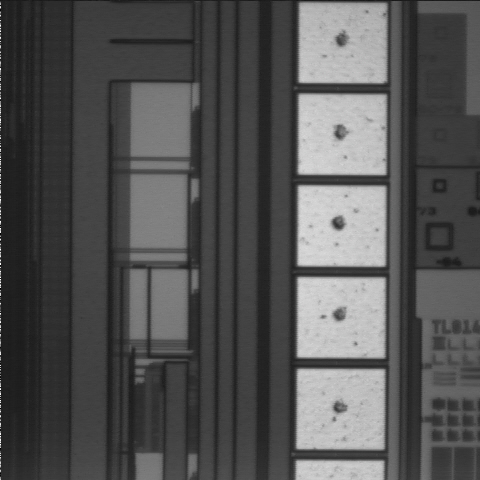pad: (298, 95, 386, 175), (298, 186, 385, 266), (297, 369, 384, 449), (299, 4, 386, 83), (298, 278, 385, 357)
